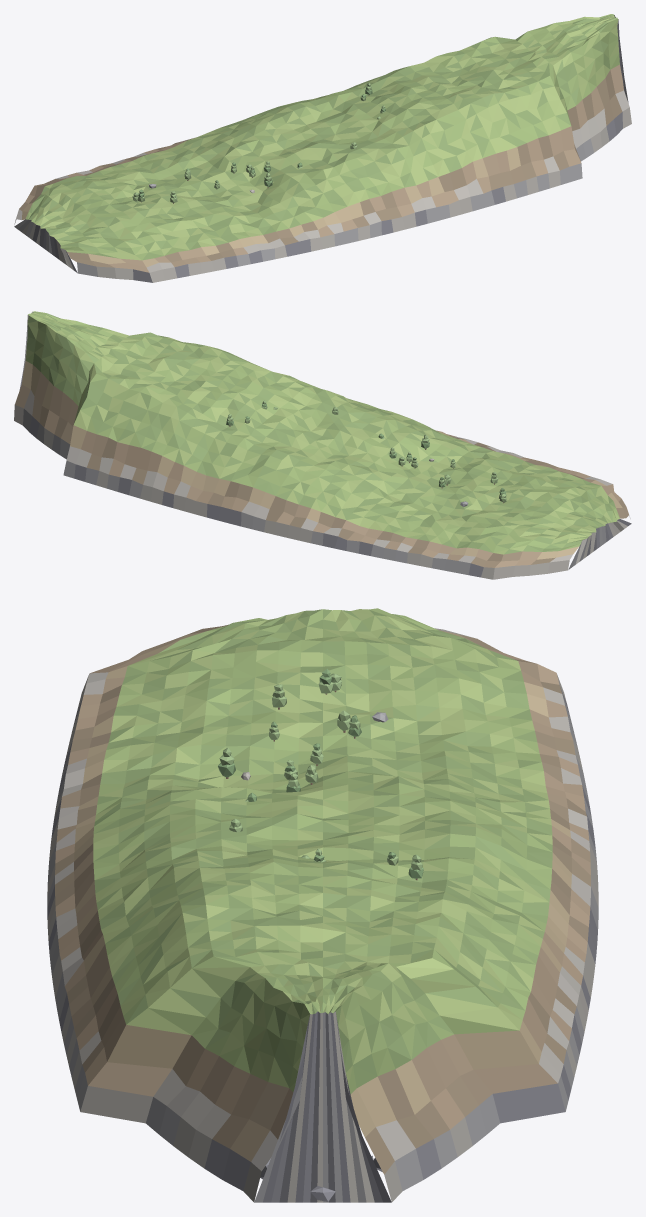
Rendered from Ile_Falaise_Complete.glb.
The picture shows the model from 3 angles, top to bottom: view 1: azimuth 30°, elevation 25°; view 2: azimuth 150°, elevation 25°; view 3: azimuth 270°, elevation 25°; orthographic projection. The views are drawn at different scales.
Parts seen in each view (by area): view 1: Island; view 2: Island; view 3: Island.
Part boxes in pixels (x1=…): Island: x1=14, y1=14, x2=631, y2=282; Island: x1=14, y1=311, x2=631, y2=579; Island: x1=47, y1=608, x2=598, y2=1202.
Bounding box in the file's own units: 352 × 58.11 × 144.
